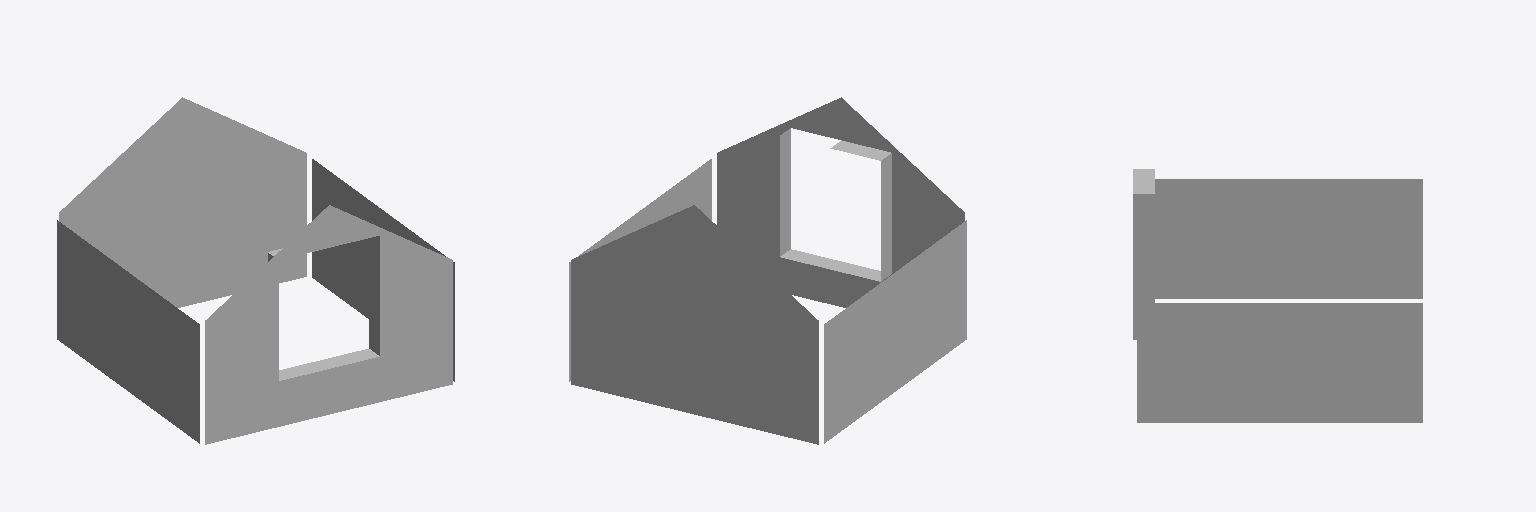
File: chickencoop.obj
The picture shows the model from 3 angles: view 1: azimuth 30°, elevation 25°; view 2: azimuth 150°, elevation 25°; view 3: azimuth 270°, elevation 25°; orthographic projection.
Parts seen in each view (by area): view 1: chickencoop_Cube.042; view 2: chickencoop_Cube.042; view 3: chickencoop_Cube.042.
Boxes of the visible parts, x1,y1,x2,y2 form: chickencoop_Cube.042: [57, 97, 454, 444]; chickencoop_Cube.042: [569, 97, 966, 444]; chickencoop_Cube.042: [1133, 169, 1422, 422].
Bounding box in the file's own units: 0.9264 × 0.7296 × 0.9259.